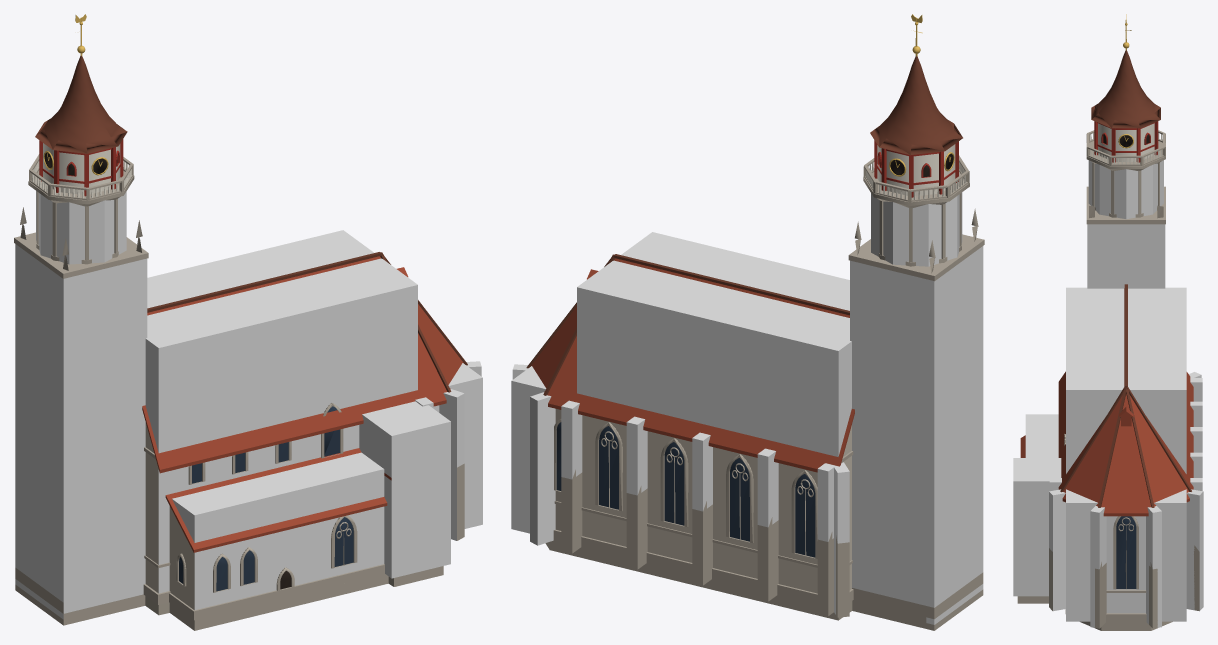
Rendered from kirche.glb.
The picture shows the model from 3 angles, left to right: view 1: azimuth 30°, elevation 25°; view 2: azimuth 150°, elevation 25°; view 3: azimuth 270°, elevation 25°; orthographic projection. The views are drawn at different scales.
Visible parts, largest first — view 1: COL_HULL_0, COL_HULL_4, kirche, COL_HULL_2, COL_HULL_3, COL_HULL_5, COL_HULL_1, COL_HULL_16; view 2: kirche, COL_HULL_0, COL_HULL_4, COL_HULL_5, COL_HULL_13, COL_HULL_1, COL_HULL_9, COL_HULL_7, COL_HULL_11, COL_HULL_8, COL_HULL_10, COL_HULL_6; view 3: kirche, COL_HULL_0, COL_HULL_1, COL_HULL_3, COL_HULL_4, COL_HULL_5, COL_HULL_13, COL_HULL_16, COL_HULL_2, COL_HULL_14, COL_HULL_15.
Boxes of the visible parts, box(x1,y1,x2,y2) form: COL_HULL_0: box(145, 230, 417, 593); COL_HULL_4: box(15, 244, 147, 619); kirche: box(14, 14, 467, 630); COL_HULL_2: box(172, 452, 384, 609); COL_HULL_3: box(359, 401, 450, 578); COL_HULL_5: box(36, 191, 126, 264); COL_HULL_1: box(433, 363, 482, 528); COL_HULL_16: box(439, 389, 464, 540); kirche: box(526, 14, 984, 630); COL_HULL_0: box(577, 232, 851, 456); COL_HULL_4: box(850, 246, 983, 624); COL_HULL_5: box(871, 192, 962, 266); COL_HULL_13: box(530, 392, 555, 545); COL_HULL_1: box(511, 366, 546, 533); COL_HULL_9: box(626, 416, 647, 495); COL_HULL_7: box(757, 448, 778, 527); COL_HULL_11: box(561, 400, 582, 479); COL_HULL_8: box(692, 432, 712, 511); COL_HULL_10: box(834, 462, 849, 614); COL_HULL_6: box(817, 463, 835, 541); kirche: box(1017, 14, 1199, 630); COL_HULL_0: box(1066, 287, 1186, 473); COL_HULL_1: box(1066, 489, 1186, 621); COL_HULL_3: box(1013, 458, 1061, 596); COL_HULL_4: box(1087, 224, 1165, 288); COL_HULL_5: box(1088, 160, 1163, 219); COL_HULL_13: box(1186, 489, 1203, 610); COL_HULL_16: box(1049, 489, 1065, 611); COL_HULL_2: box(1025, 414, 1058, 457); COL_HULL_14: box(1146, 506, 1161, 627); COL_HULL_15: box(1090, 506, 1106, 627).
Bounding box in the file's own units: 39.32 × 51.66 × 18.87.
